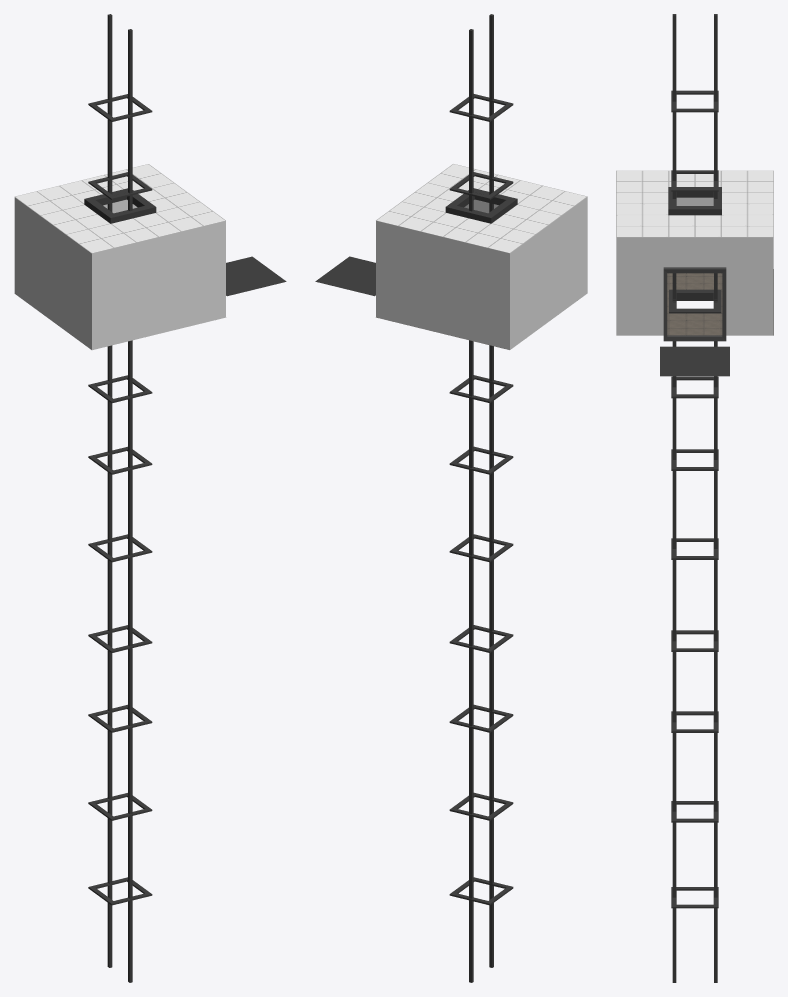
3 renders of one model, left to right at view 1: azimuth 30°, elevation 25°; view 2: azimuth 150°, elevation 25°; view 3: azimuth 270°, elevation 25°, orthographic.
Parts seen in each view (by area): view 1: walls, ElevatorRails, ceiling, FrameMap; view 2: walls, ElevatorRails, ceiling, FrameMap; view 3: ElevatorRails, walls, ceiling, floor, FrameMap, DoorFrame.
Part boxes in pixels (left/top/right/bottom): walls: left=14, top=197, right=225, bottom=350; ElevatorRails: left=84, top=14, right=156, bottom=982; ceiling: left=14, top=164, right=225, bottom=253; FrameMap: left=226, top=256, right=286, bottom=296; walls: left=376, top=197, right=587, bottom=349; ElevatorRails: left=445, top=14, right=517, bottom=982; ceiling: left=376, top=164, right=587, bottom=253; FrameMap: left=315, top=256, right=375, bottom=296; ElevatorRails: left=668, top=14, right=721, bottom=982; walls: left=616, top=197, right=773, bottom=335; ceiling: left=616, top=170, right=773, bottom=237; floor: left=667, top=269, right=773, bottom=335; FrameMap: left=660, top=346, right=729, bottom=376; DoorFrame: left=663, top=267, right=726, bottom=341.
Bounding box in the file's own units: 7.26 × 30.47 × 4.51.
6 materials, 2 textured.
